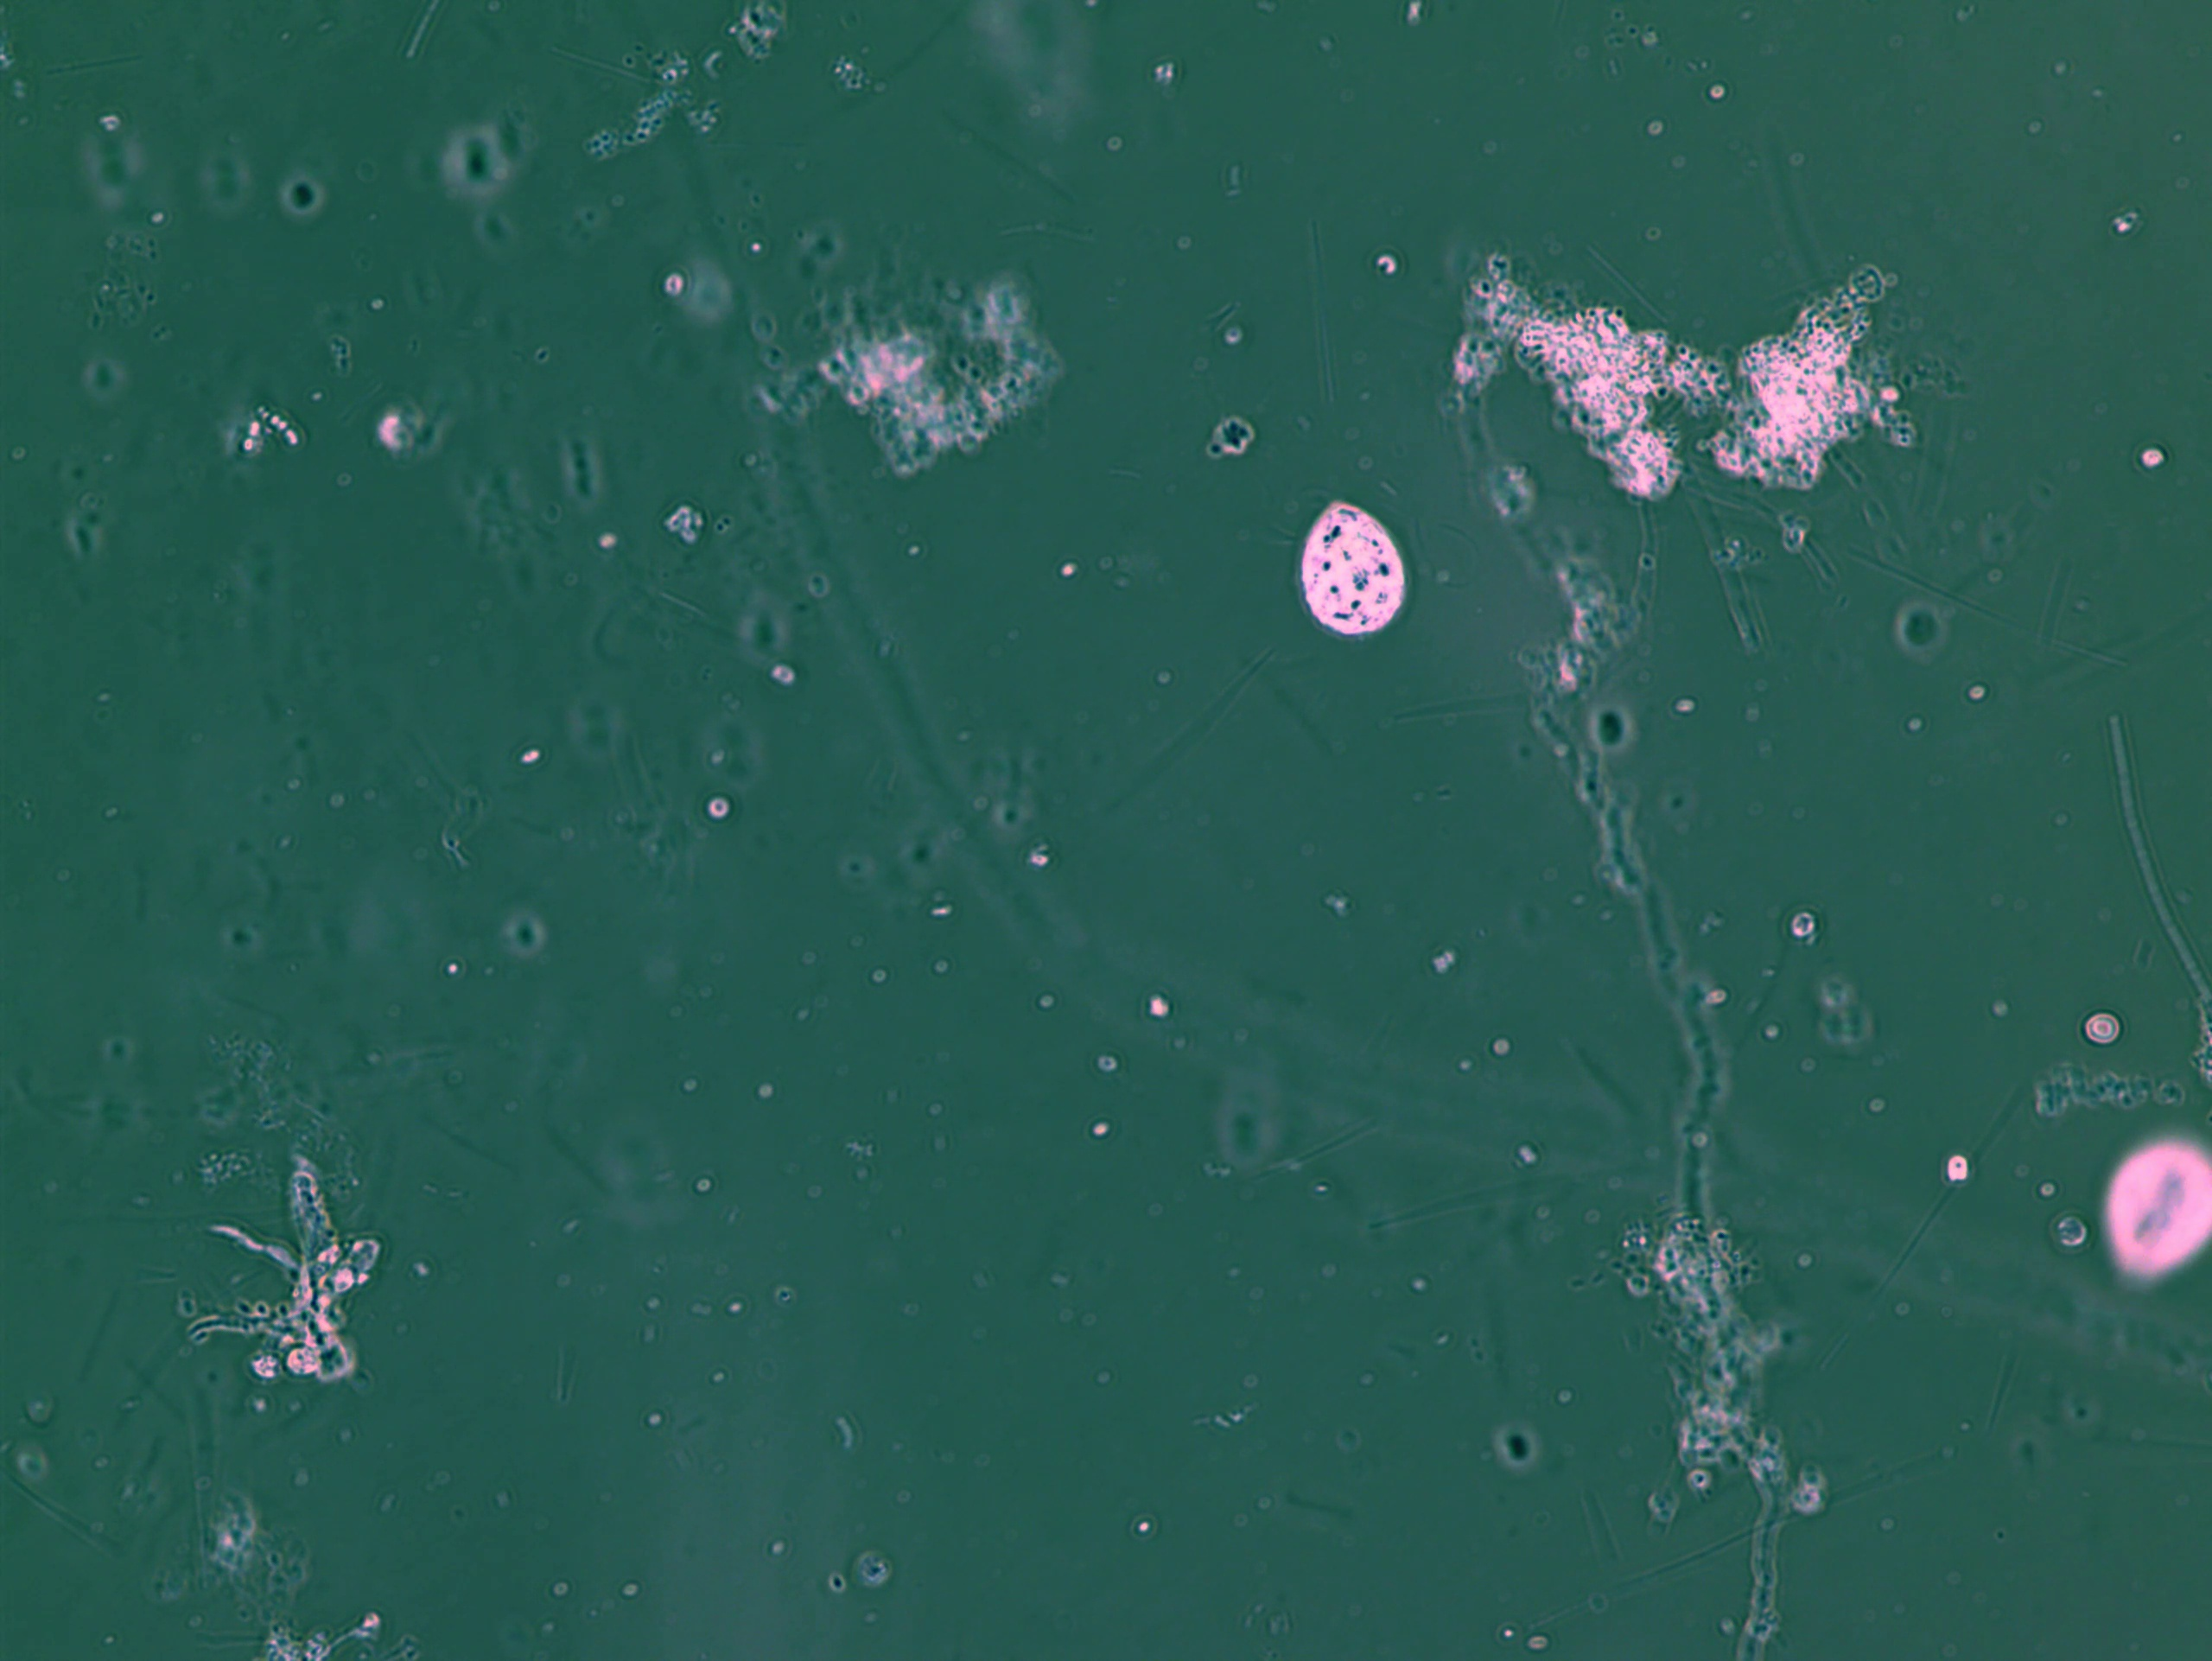depth:0: (1280, 478, 1444, 660)
